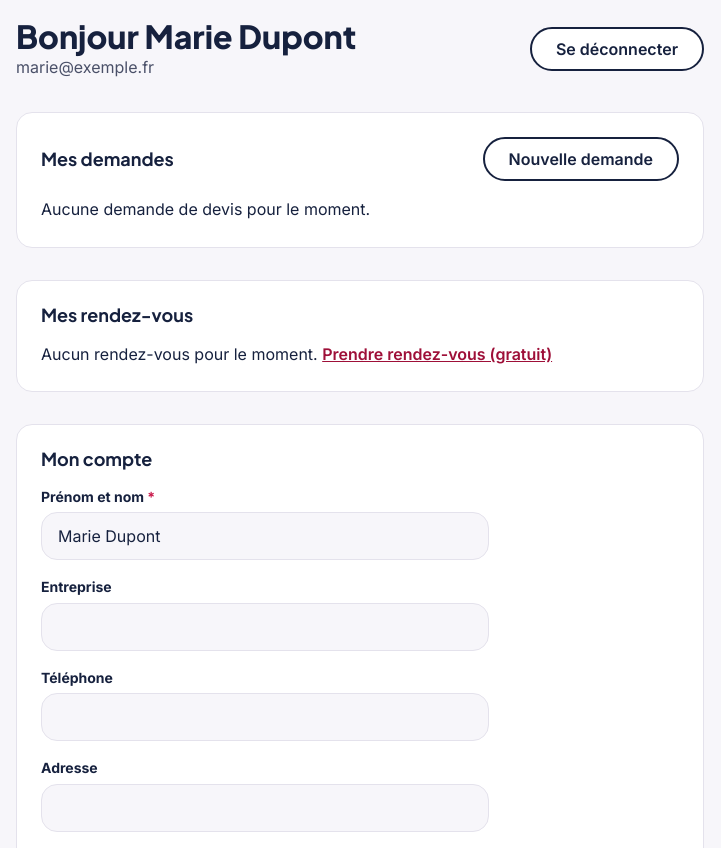
Scenario: Mon espace › se déconnecte puis revient à la connexion
Click the button "Se déconnecter" at point(617, 49), box [530,27,704,71]
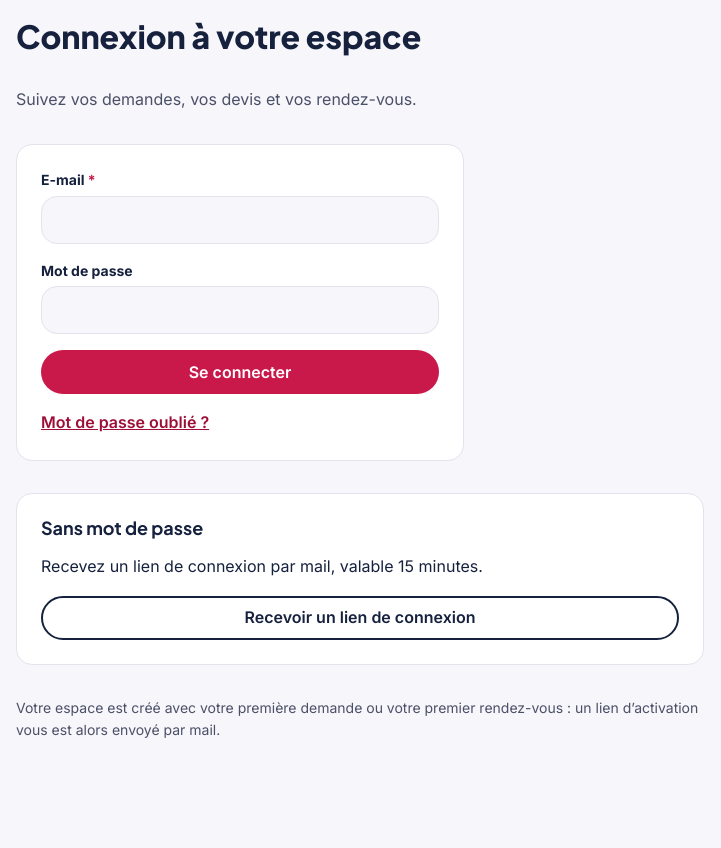
Check: the heading "Connexion à votre espace" is shown, box [16,16,421,56]
